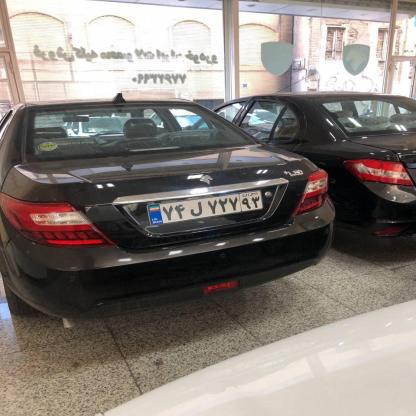Car: (0, 99, 332, 313), (231, 73, 416, 250)
